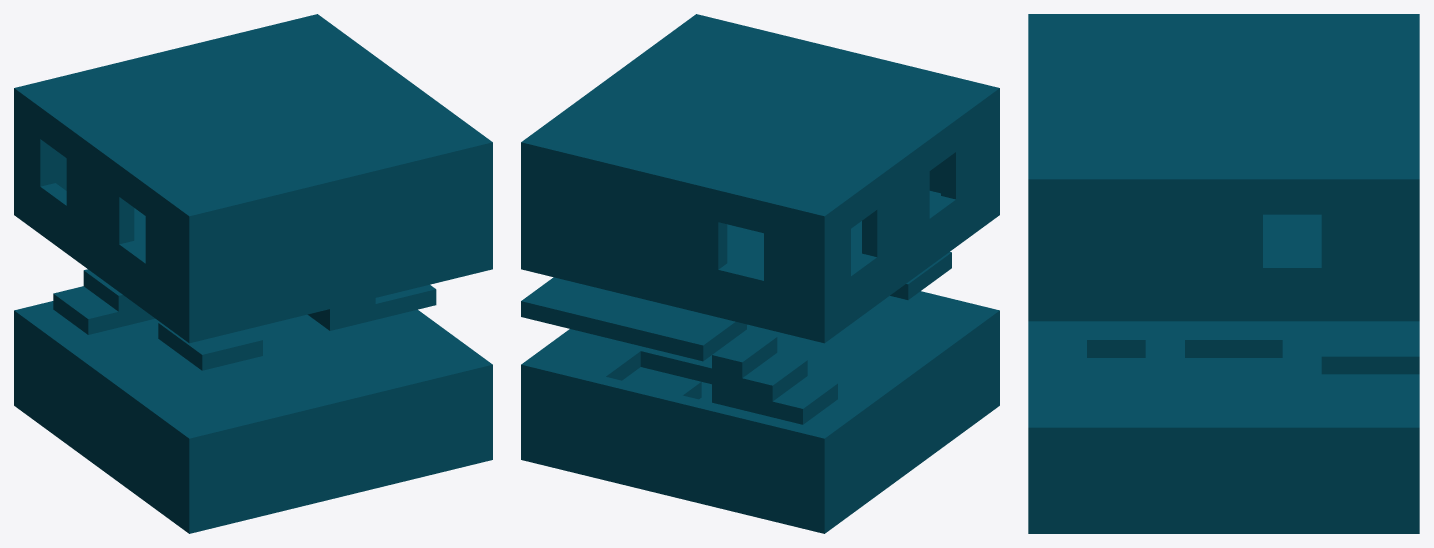
The model's file is LevelC.dae.
3 renders of one model, left to right at view 1: azimuth 30°, elevation 25°; view 2: azimuth 150°, elevation 25°; view 3: azimuth 270°, elevation 25°, orthographic. The views are drawn at different scales.
Visible parts, largest first — view 1: Niveau_1; view 2: Niveau_1; view 3: Niveau_1.
Boxes of the visible parts, x1,y1,x2,y2 form: Niveau_1: (14,14,492,533); Niveau_1: (521,14,999,533); Niveau_1: (1028,14,1419,533).
Size of the model in its own units: 20 by 20 by 20.
1 material, 1 textured.
